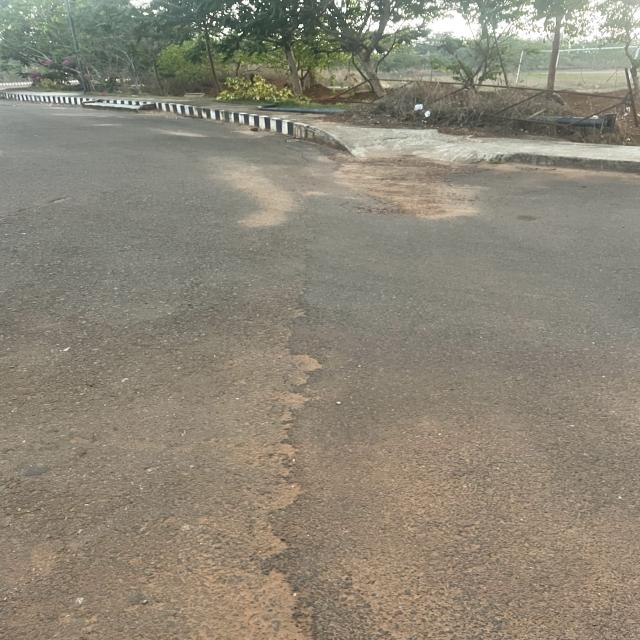D01: (242, 294, 368, 640)
D40: (322, 161, 504, 238)
